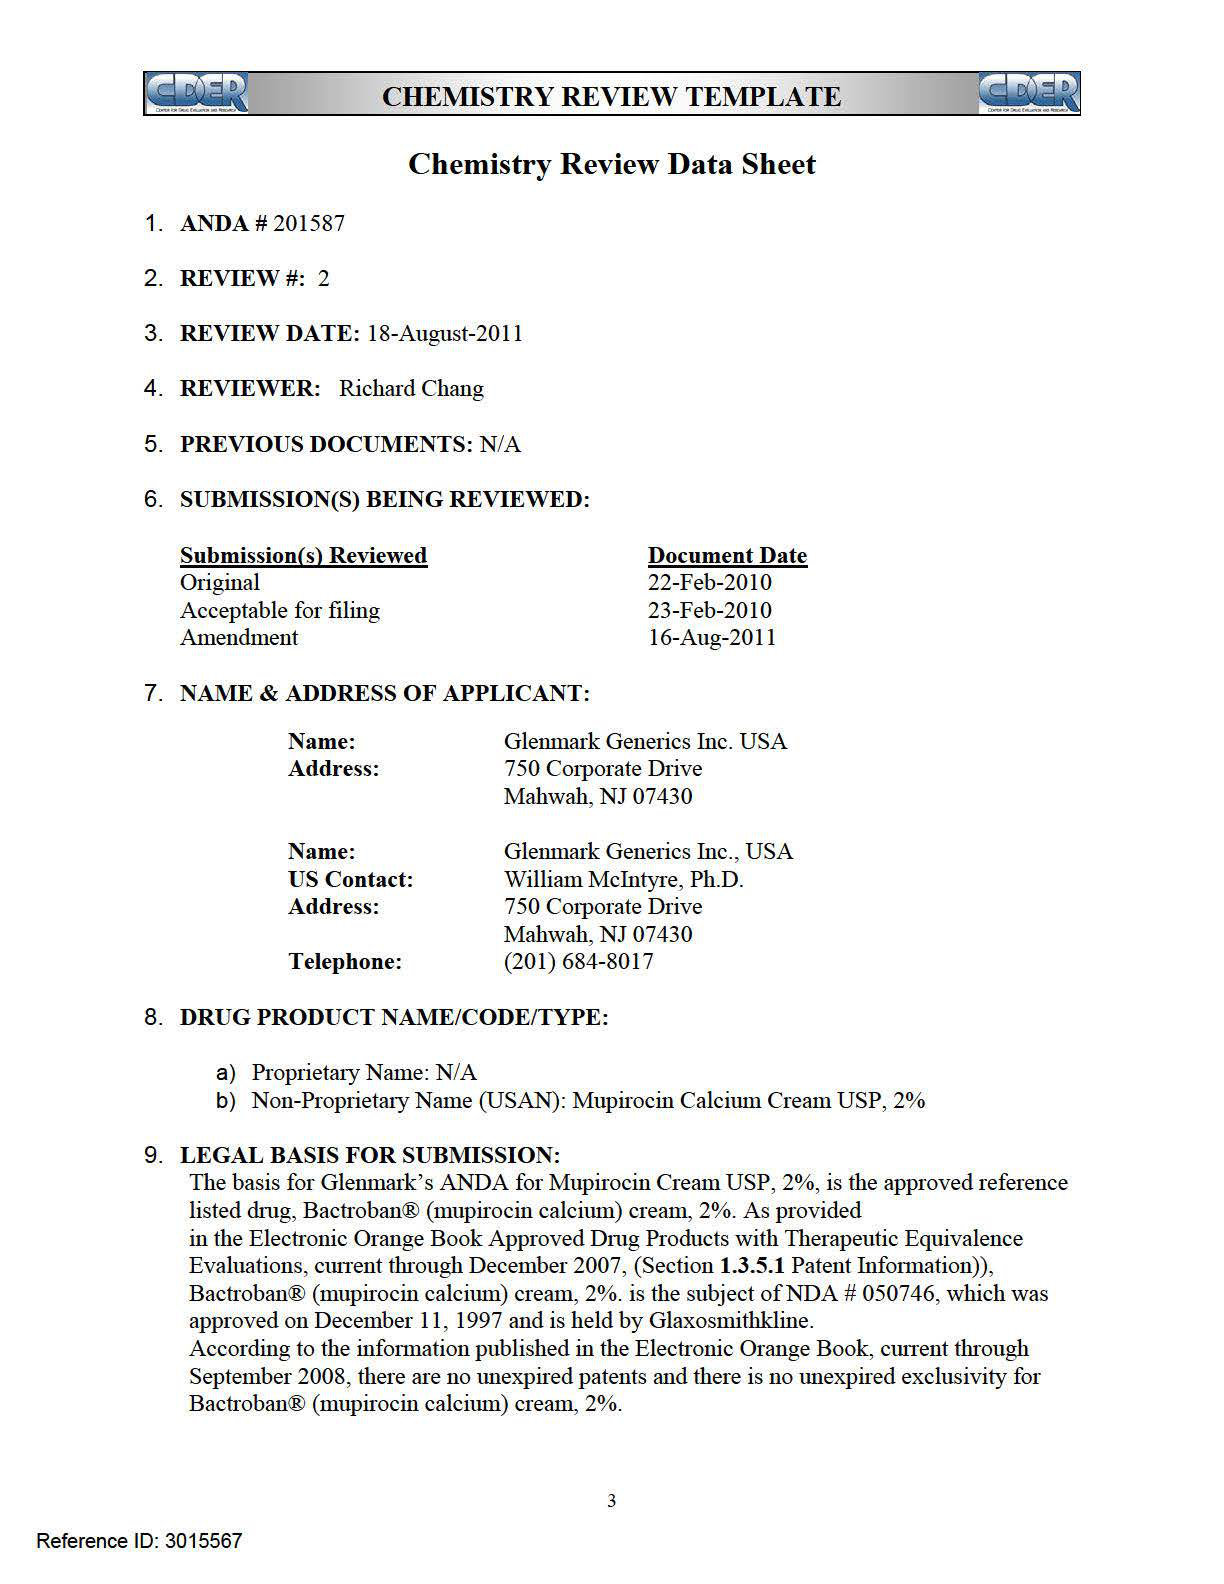nolines: (285, 726, 797, 977), (175, 543, 811, 652)
